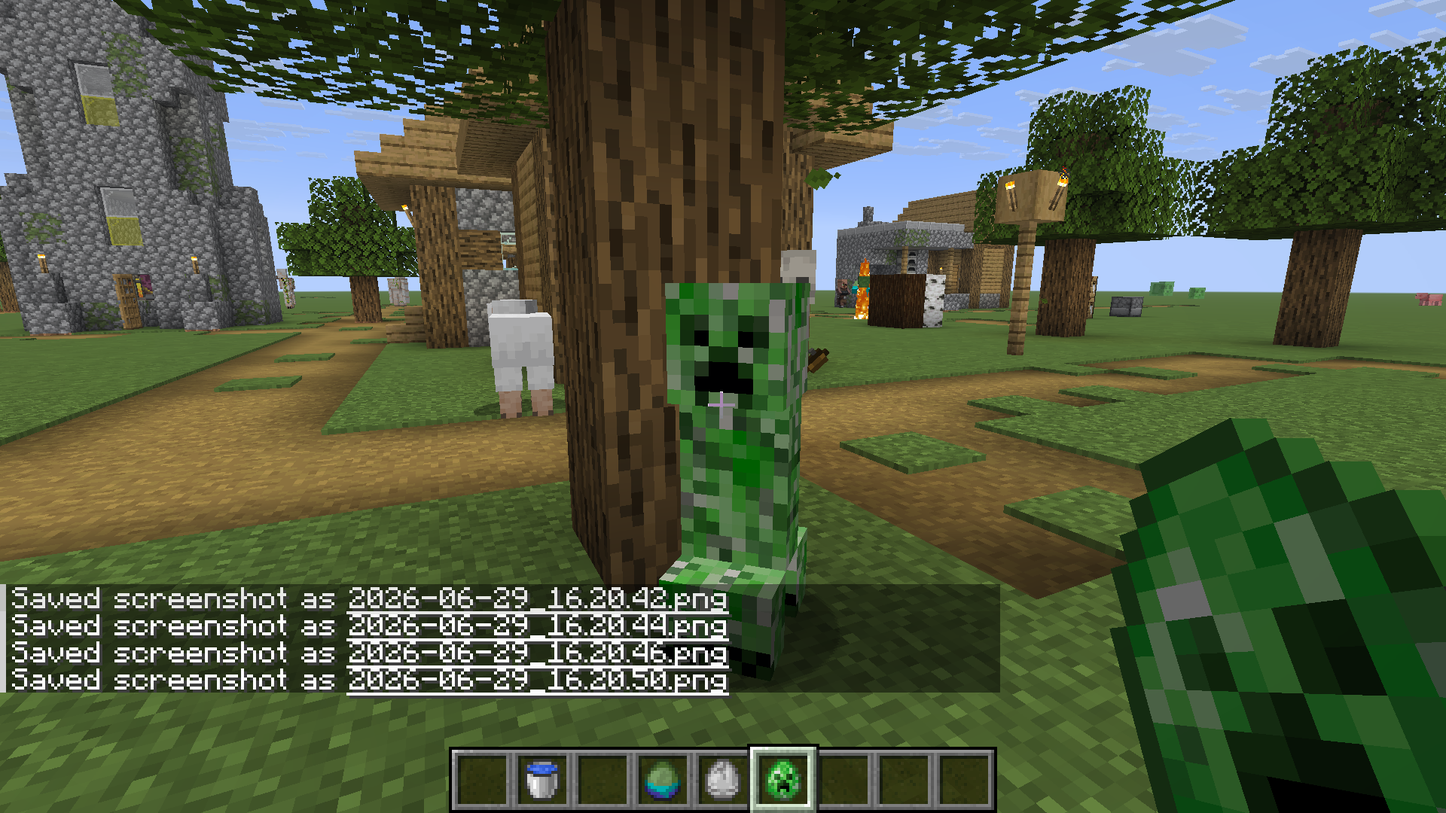Sheep: (482, 289, 569, 431)
creeper: (657, 271, 823, 591)
